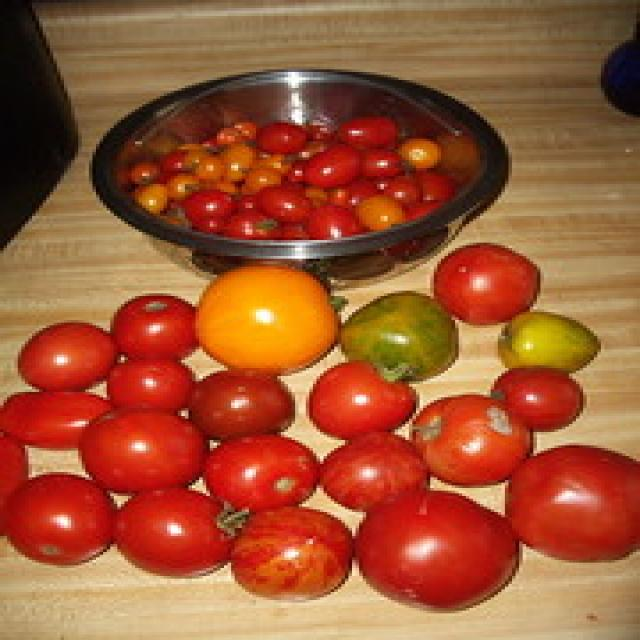Tomato: (355, 486, 528, 614), (500, 444, 639, 574), (222, 500, 364, 610), (108, 483, 248, 582), (3, 472, 129, 577), (405, 389, 534, 486), (73, 405, 211, 495), (300, 358, 430, 441), (202, 434, 321, 510), (182, 366, 297, 443), (485, 360, 593, 434), (11, 318, 115, 393), (325, 434, 426, 509), (103, 293, 208, 364), (4, 391, 116, 449)
